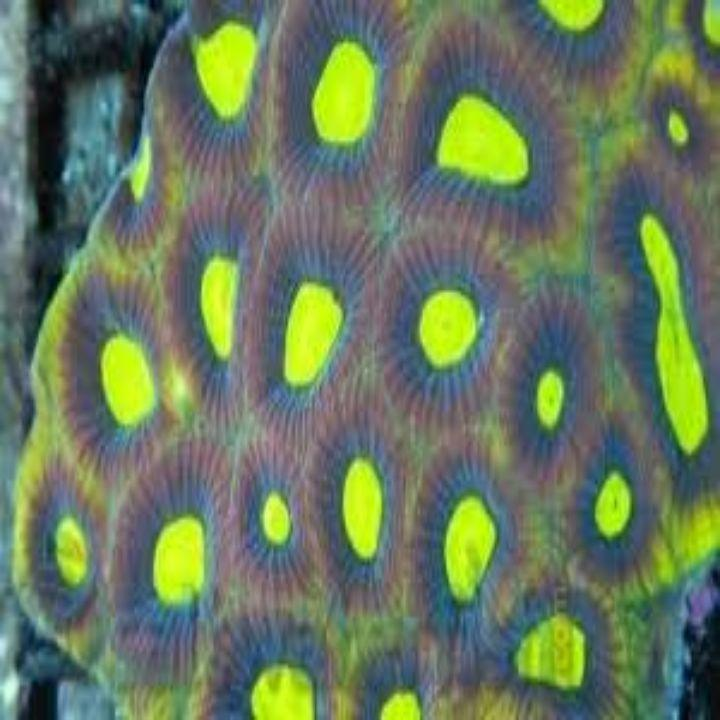Healthy Coral: (66, 78, 626, 612)
